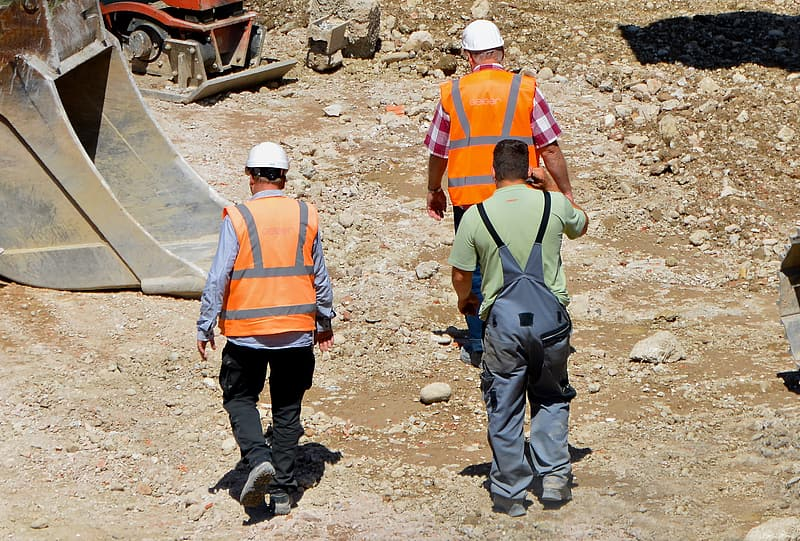Hard Hat: (239, 144, 294, 198), (456, 21, 506, 70)
Person: (422, 25, 574, 364), (198, 144, 334, 513), (455, 143, 579, 403)
Vest: (223, 168, 322, 334), (446, 47, 542, 204)
